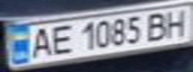0: (93, 17, 115, 48)
1: (75, 19, 96, 51)
5: (124, 12, 148, 45)
8: (109, 16, 130, 47)
A: (24, 25, 54, 60)
B: (142, 10, 172, 42)
E: (45, 21, 75, 56)
H: (160, 7, 193, 38)
